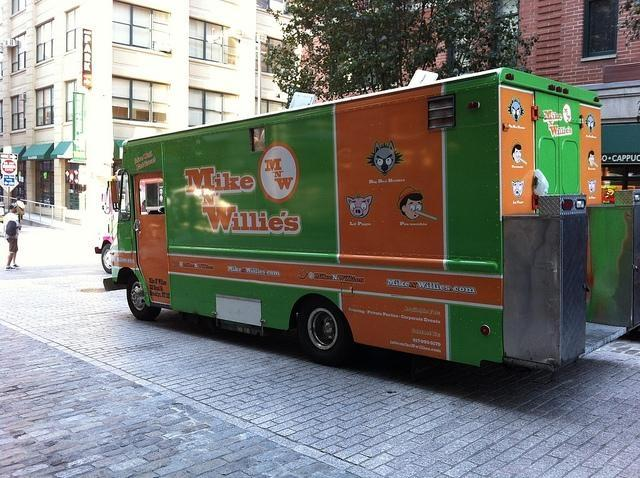truck: (97, 68, 638, 375)
